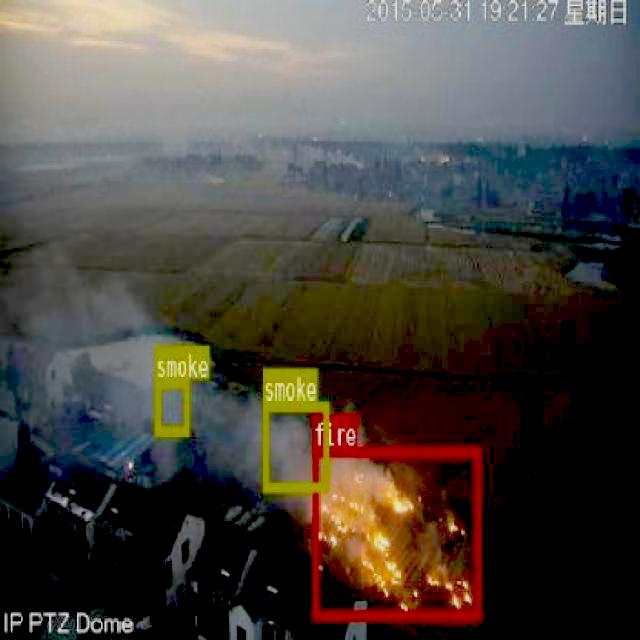fire: (312, 446, 479, 620)
smoke: (262, 401, 328, 490), (154, 378, 188, 434)
